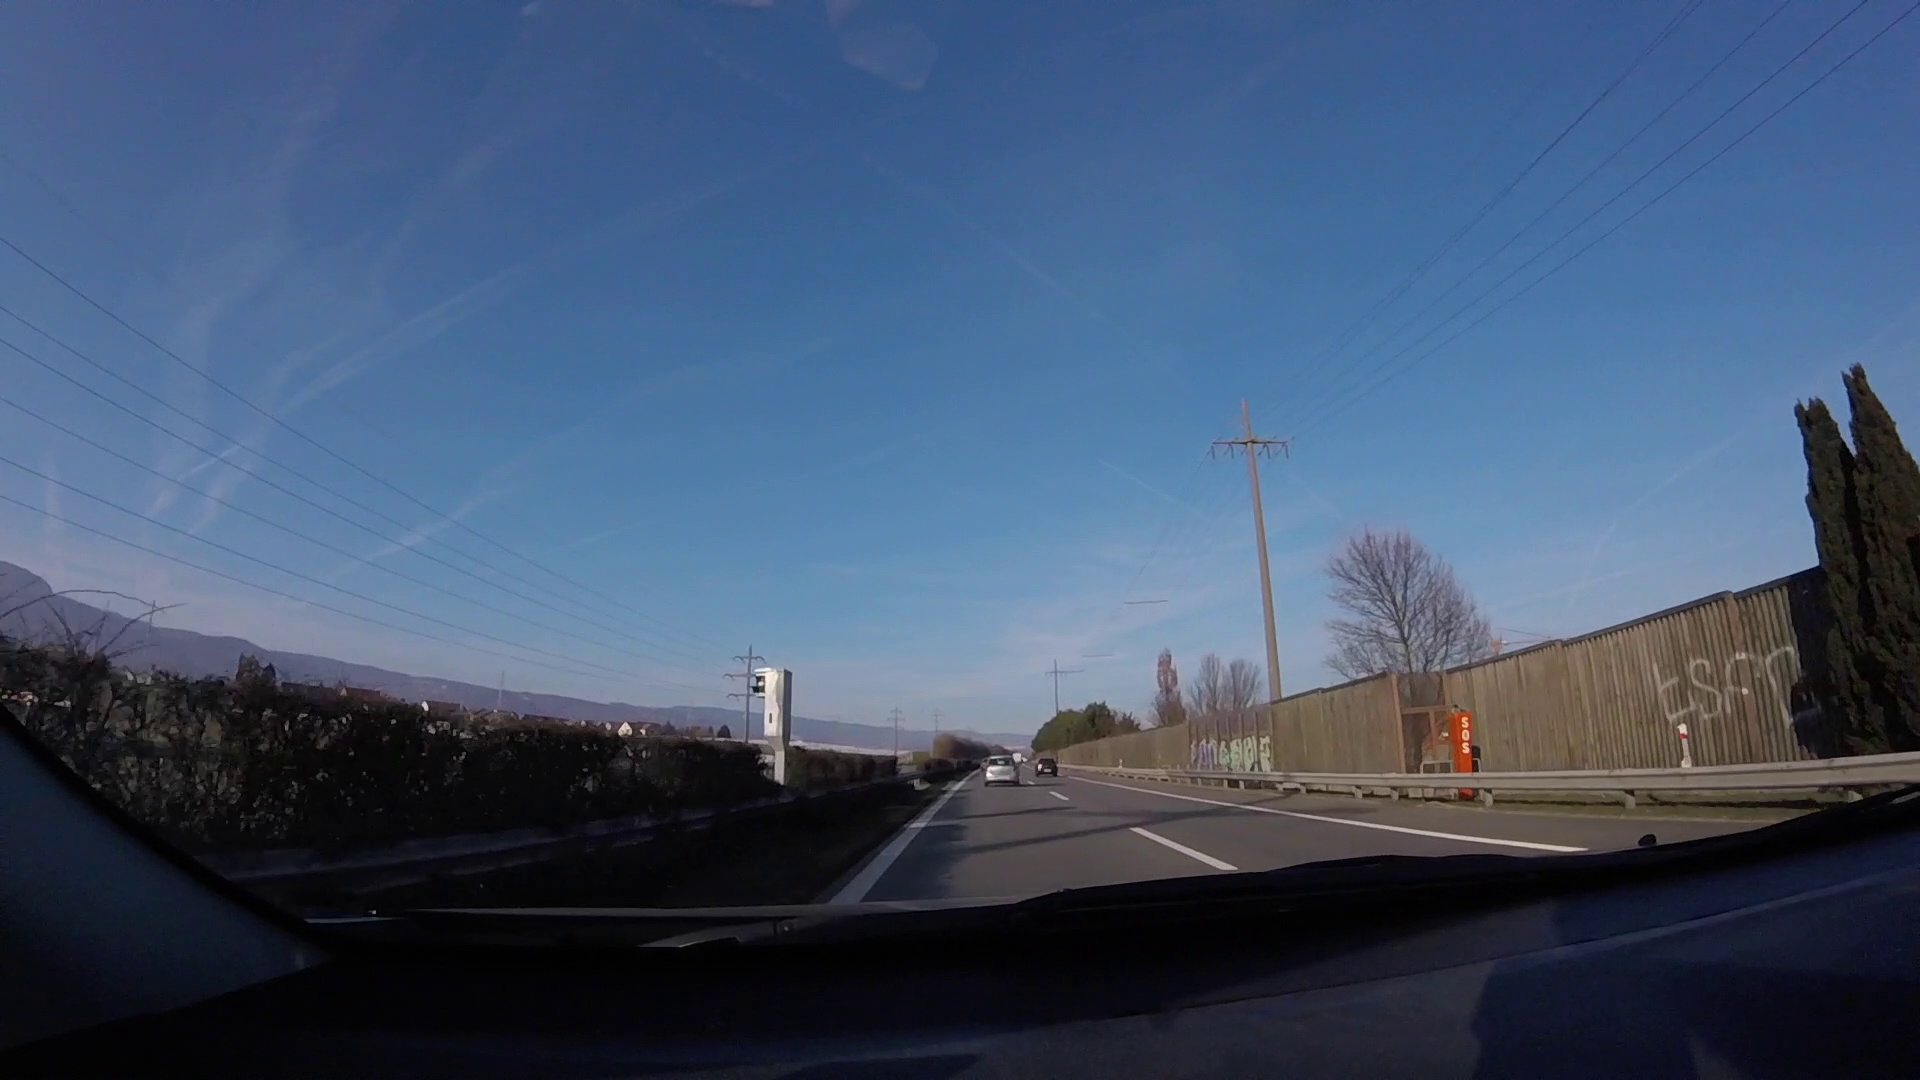radar: (750, 666, 796, 789)
